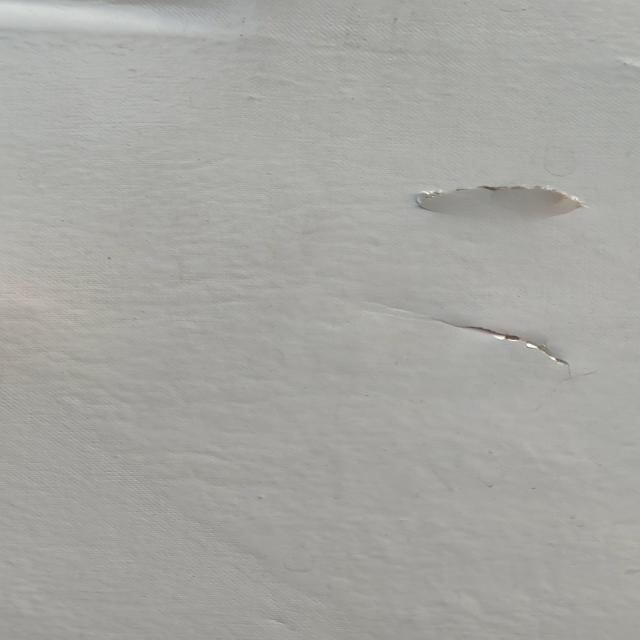Dents or Deformation: (1, 1, 335, 57)
Scratches: (390, 308, 590, 375), (404, 178, 590, 221)
